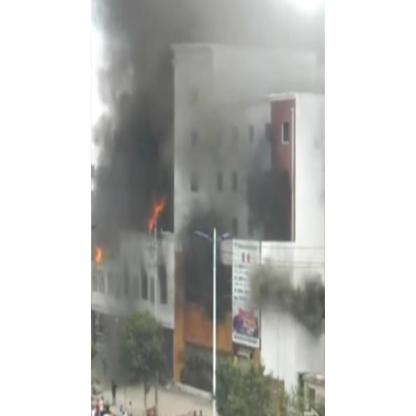smoke: (93, 1, 169, 233), (177, 2, 325, 53), (184, 209, 222, 314), (248, 176, 292, 242), (102, 314, 128, 386)
